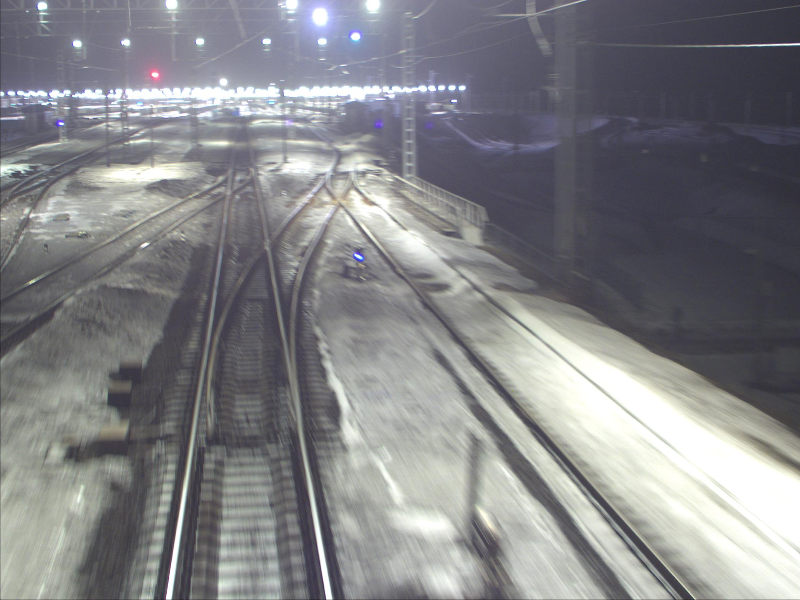left: (205, 238, 308, 429)
